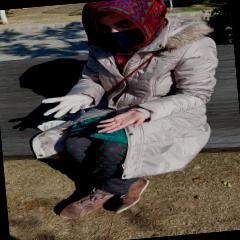gloved: (40, 95, 88, 120)
not-gloved: (94, 110, 144, 134)
